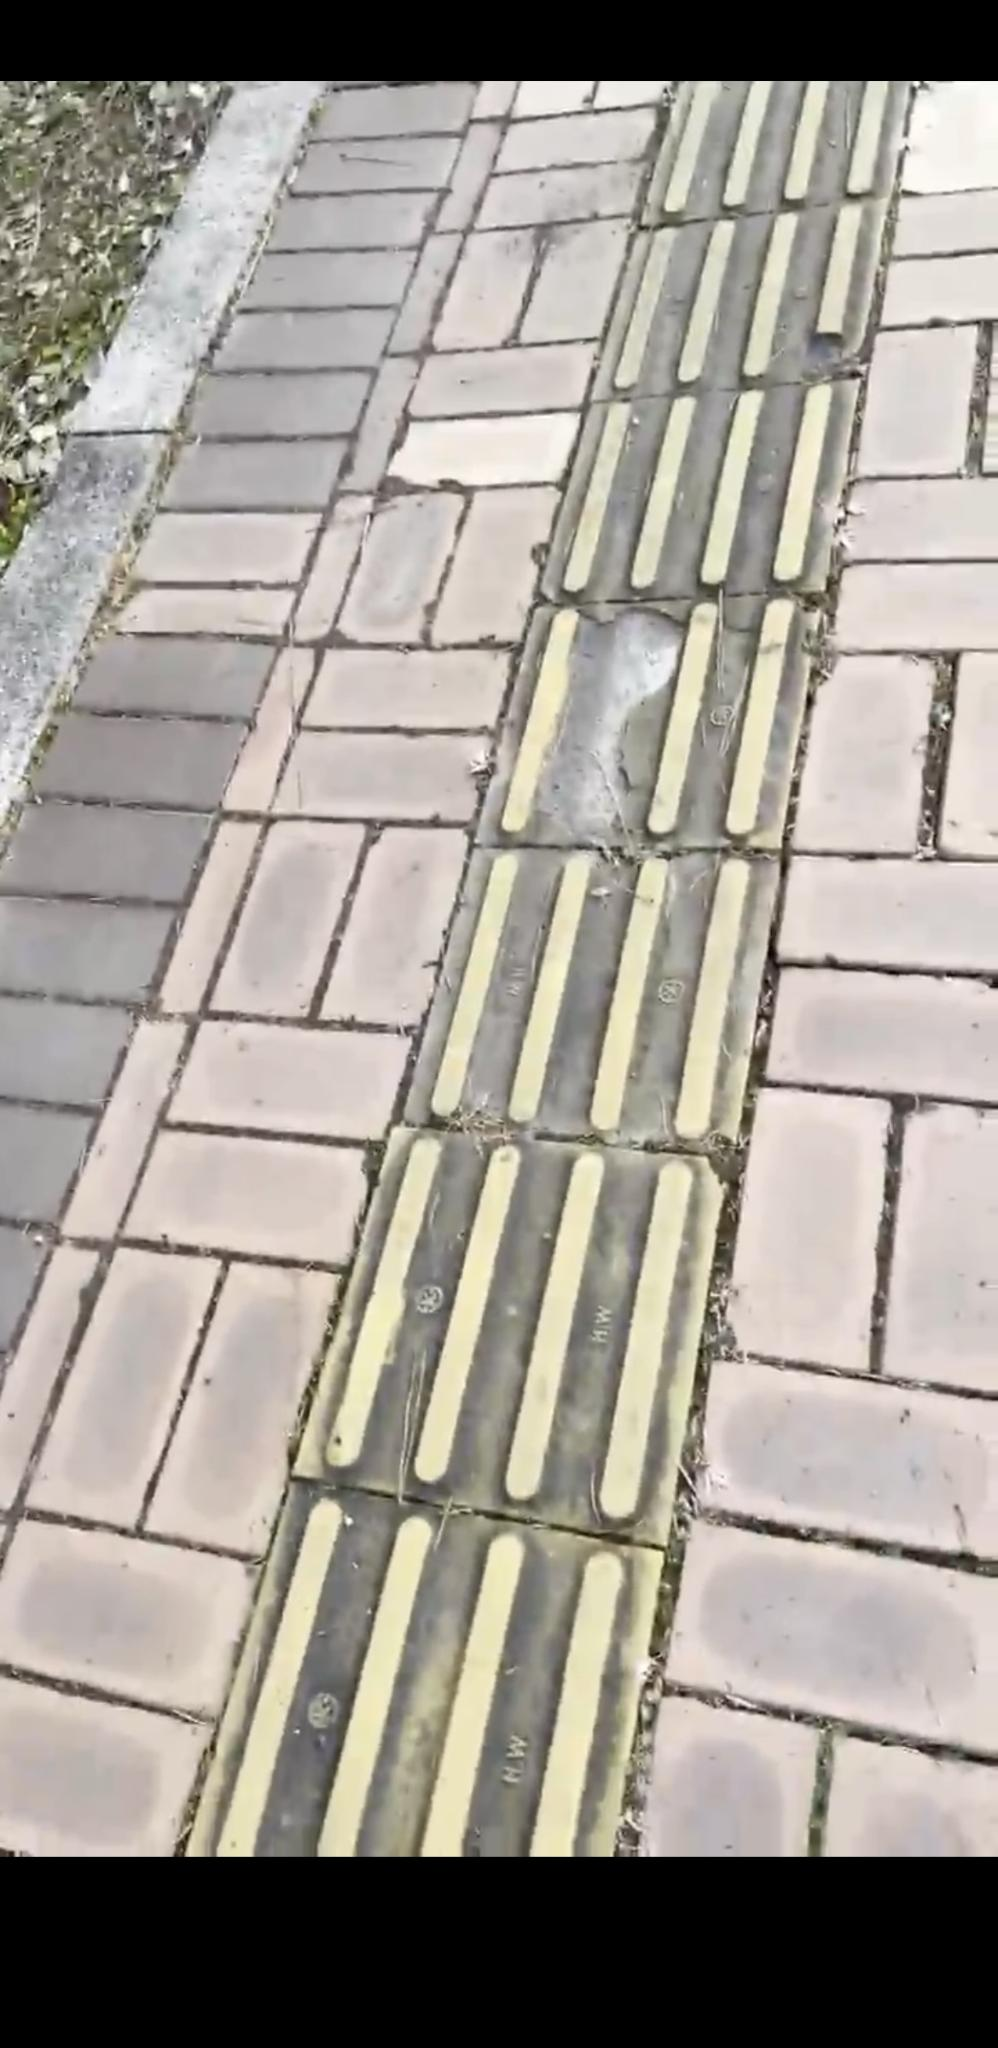Straight block broken: (477, 600, 824, 849), (593, 201, 888, 398)
Straight block normal: (298, 1130, 726, 1540), (404, 848, 780, 1152), (543, 376, 858, 597)
